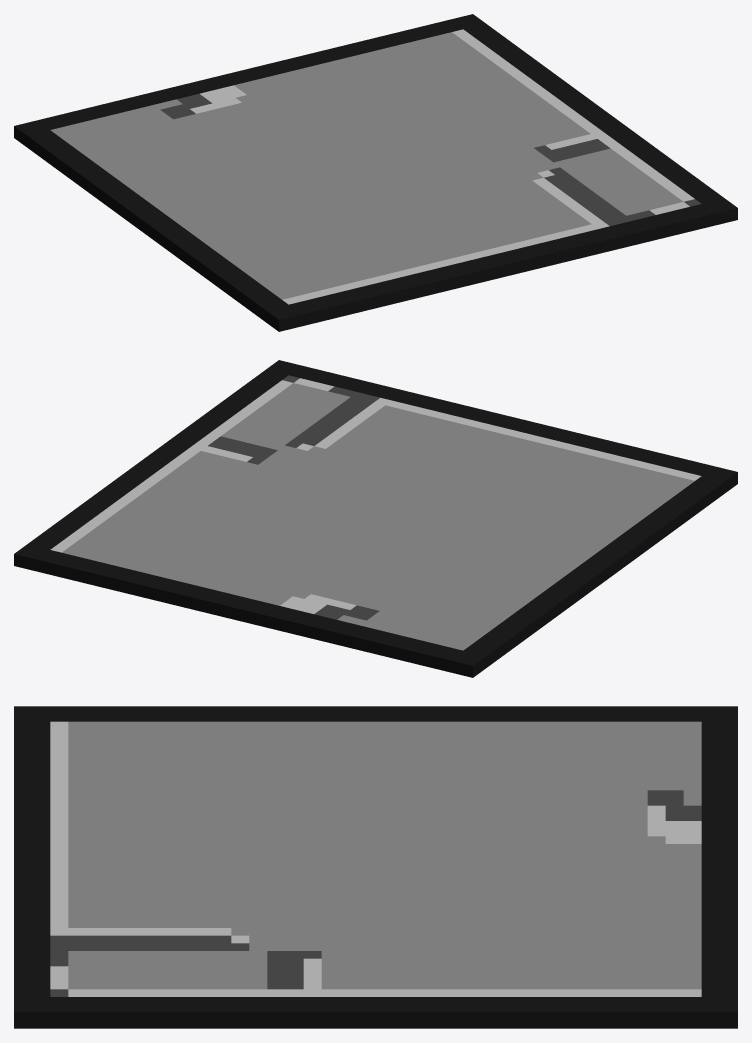
Rendered from floor2.obj.
3 views of the same model, one above another, from view 1: azimuth 30°, elevation 25°; view 2: azimuth 150°, elevation 25°; view 3: azimuth 270°, elevation 25° (orthographic). The views are drawn at different scales.
Visible parts, largest first — view 1: floor2; view 2: floor2; view 3: floor2.
Part boxes in pixels (x1,y1,x2,y2): floor2: [14, 14, 737, 331]; floor2: [14, 360, 737, 677]; floor2: [14, 706, 737, 1028].
Size of the model in its own units: 40 by 1 by 40.
Materials: 1 (1 with a texture image).
